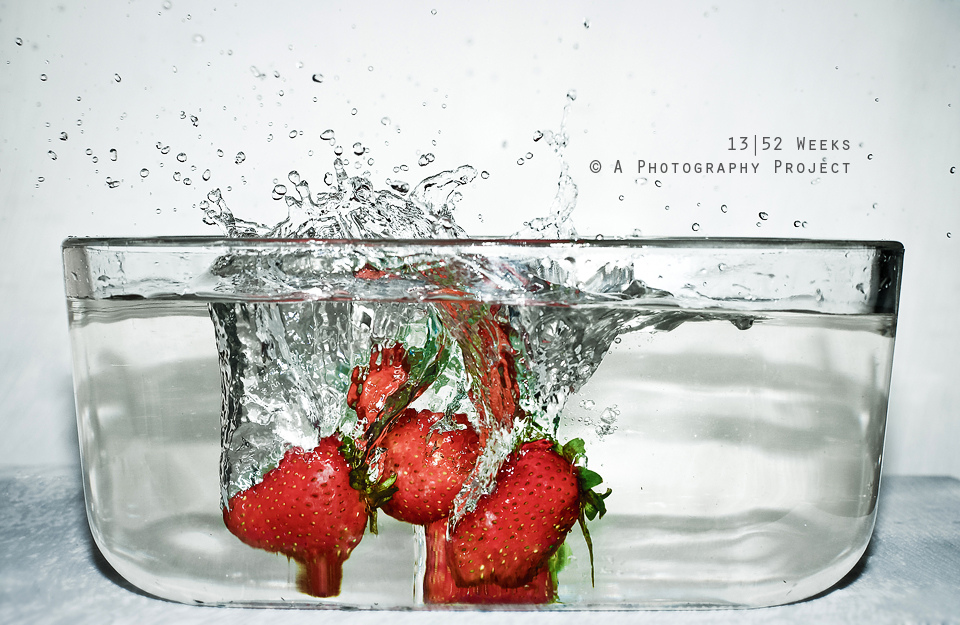glass of water: (44, 228, 913, 608)
